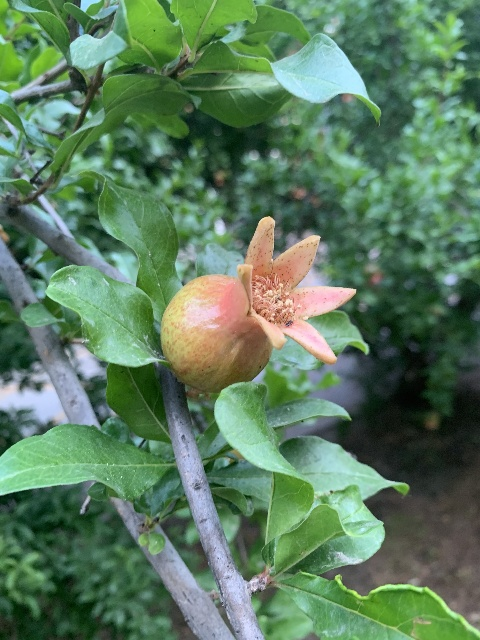early-fruit: (160, 213, 356, 392)
